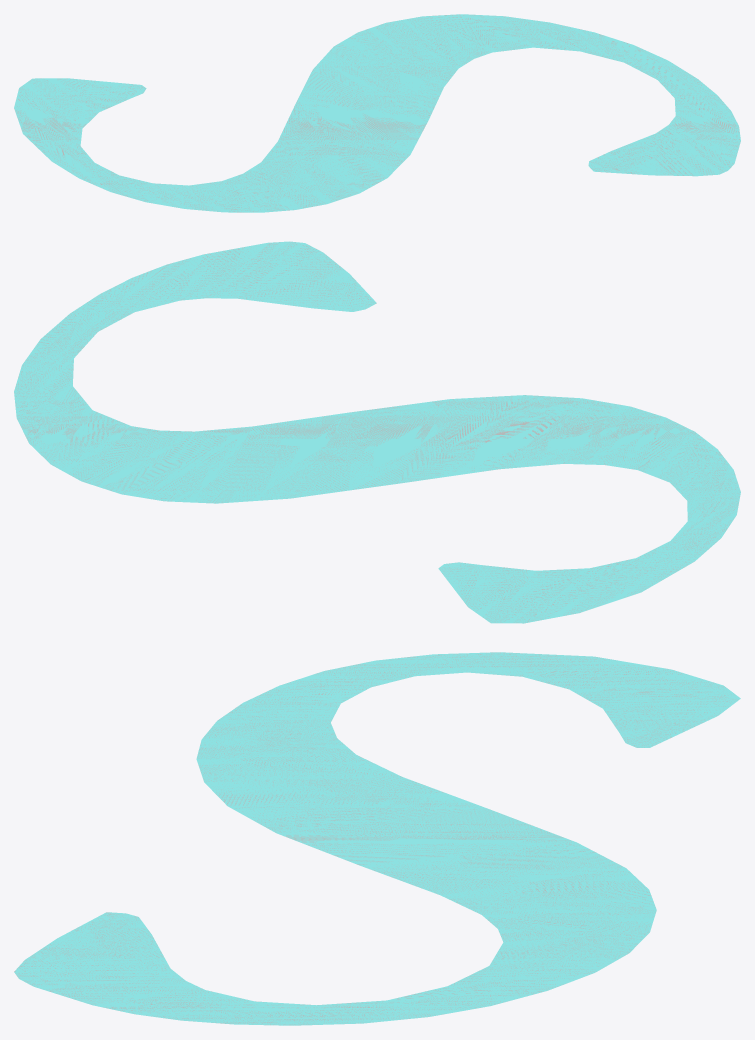
The model's file is original-12.obj.
3 renders of one model, top to bottom at view 1: azimuth 30°, elevation 25°; view 2: azimuth 150°, elevation 25°; view 3: azimuth 270°, elevation 25°, orthographic. The views are drawn at different scales.
Parts seen in each view (by area): view 1: mesh11/mesh11-geometry#mesh11-geometry; view 2: mesh11/mesh11-geometry#mesh11-geometry; view 3: mesh11/mesh11-geometry#mesh11-geometry.
Part boxes in pixels (left/top/right/bottom): mesh11/mesh11-geometry#mesh11-geometry: left=14, top=14, right=740, bottom=212; mesh11/mesh11-geometry#mesh11-geometry: left=14, top=241, right=740, bottom=623; mesh11/mesh11-geometry#mesh11-geometry: left=14, top=652, right=740, bottom=1025.
Bounding box in the file's own units: 0.0649 × 0 × 0.0533.
